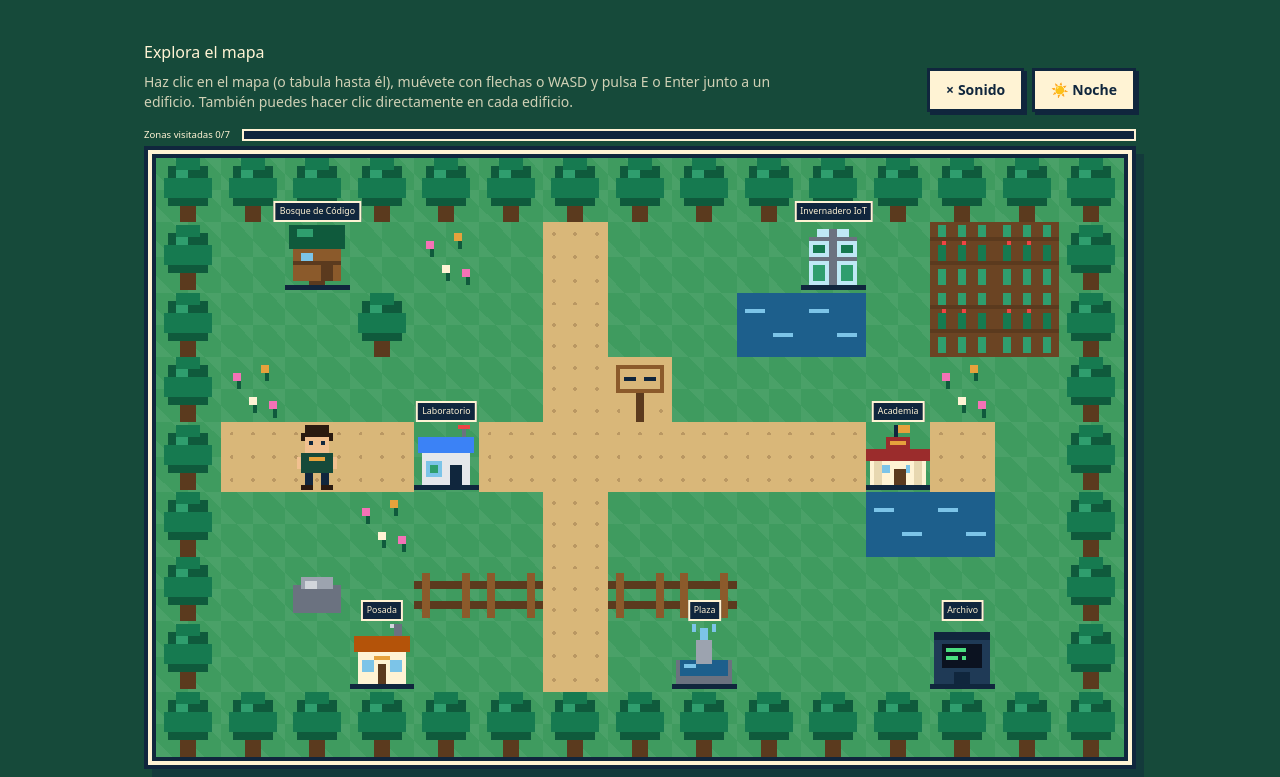
Test case: PortfolioWorld › opens the laboratory using keyboard interaction
Click the element named "Mapa de Diecu's Engineering Quest" at (640,457), box [152,154,1128,760]
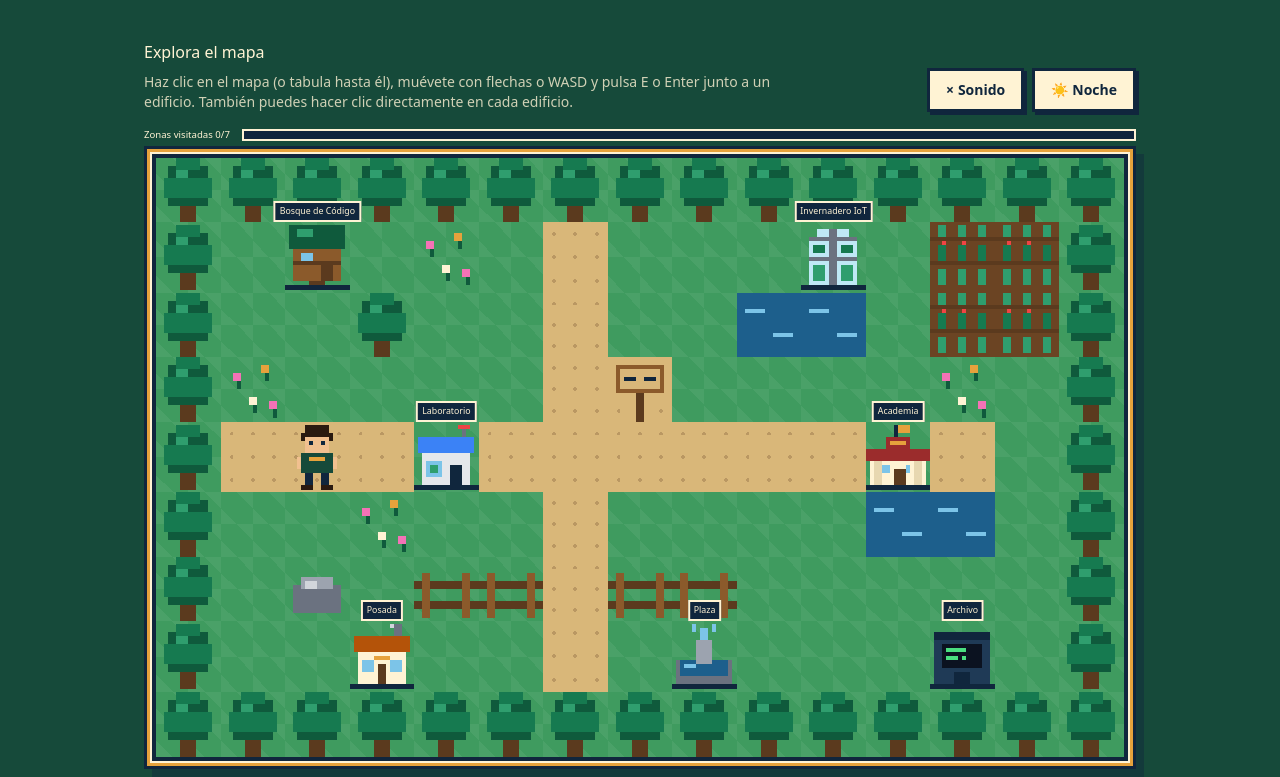
Type keys "{ArrowRight}e"
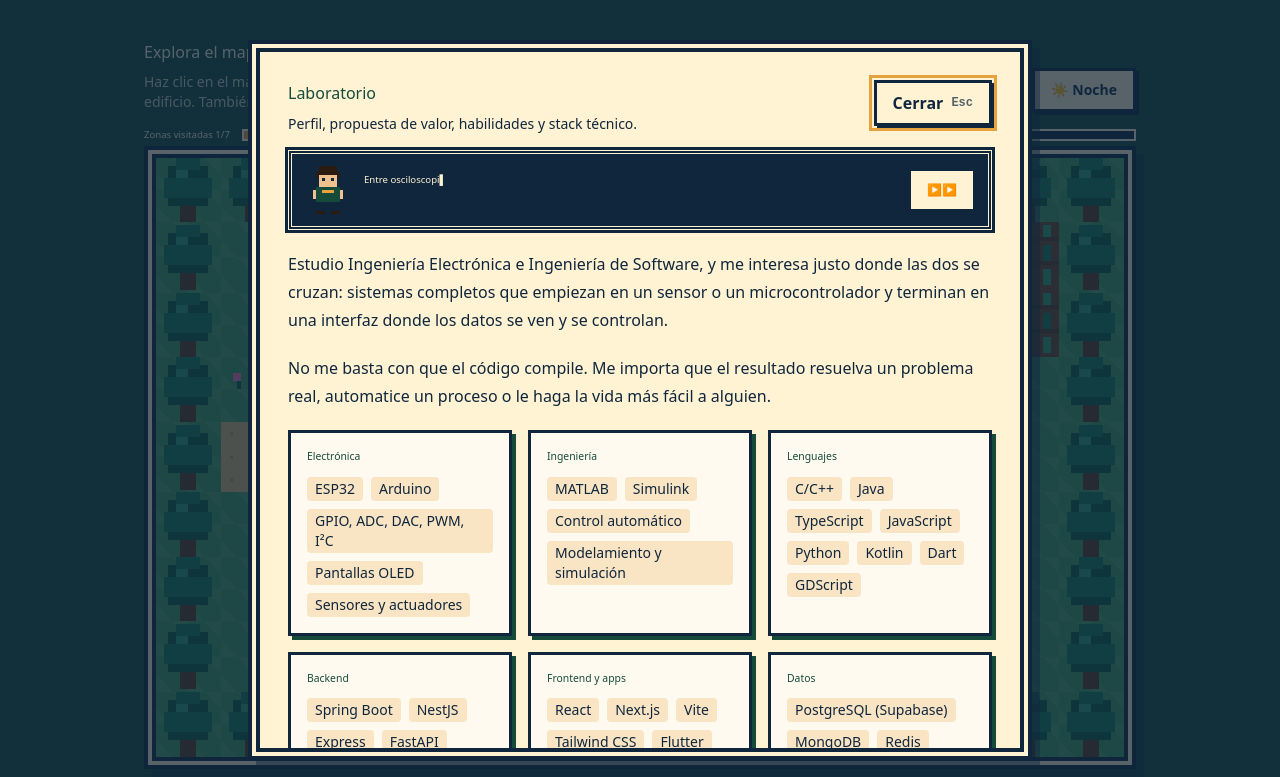
Check: the dialog "Laboratorio" is shown, box [256,48,1024,752]
